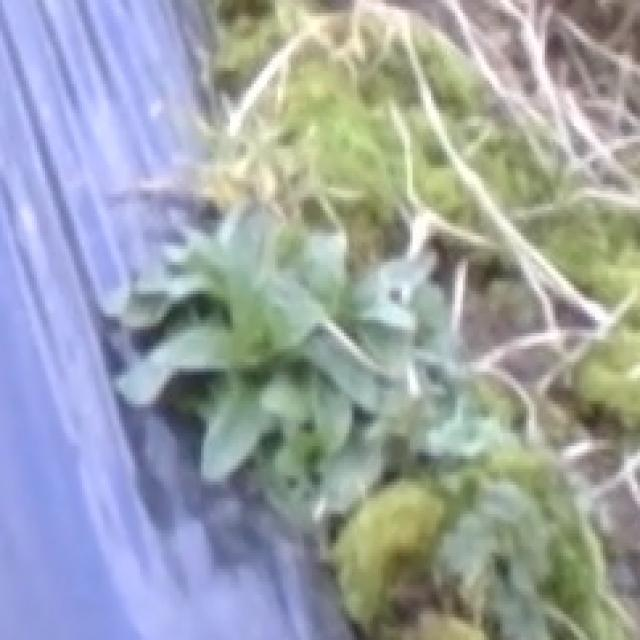organic waste: (147, 165, 459, 512)
